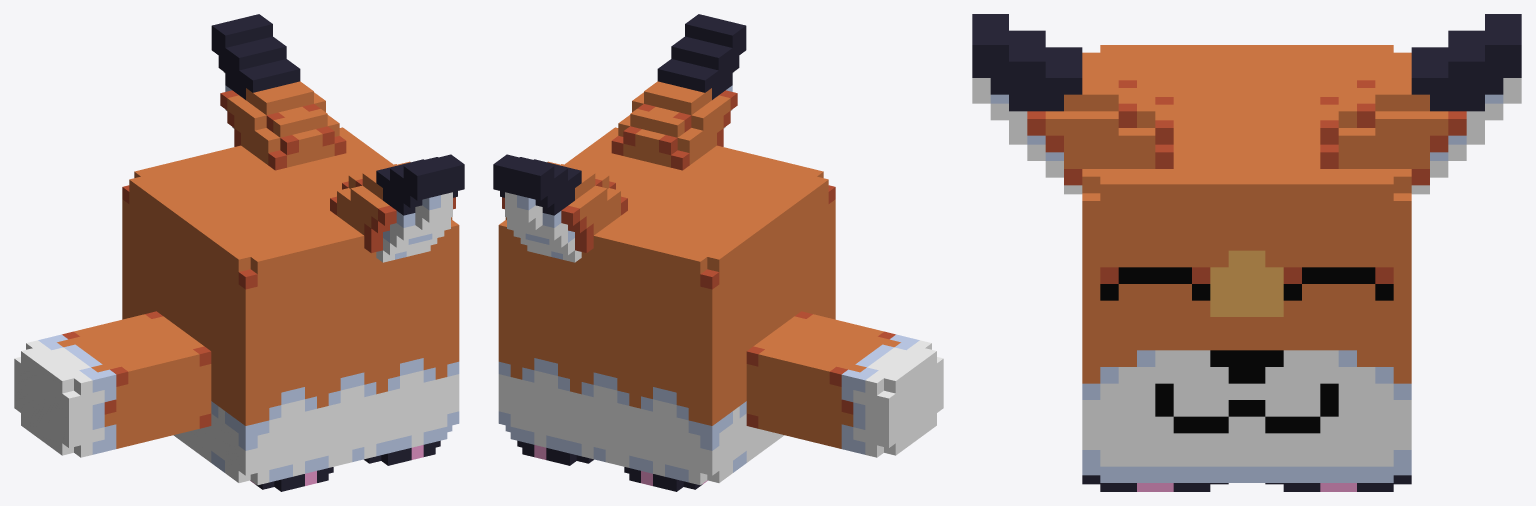
Rendered from foxblinking.obj.
3 renders of one model, left to right at view 1: azimuth 30°, elevation 25°; view 2: azimuth 150°, elevation 25°; view 3: azimuth 270°, elevation 25°, orthographic. The views are drawn at different scales.
Bounding box in the file's own units: 3 × 2.6 × 3.
1 material, 1 textured.
